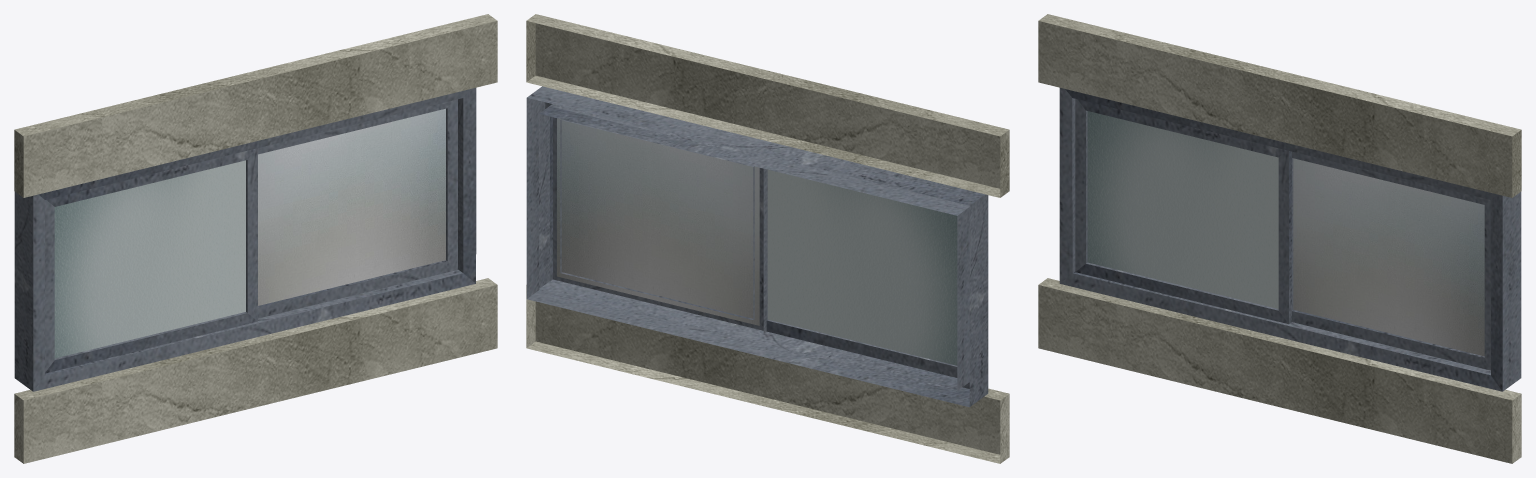
The model's file is Window_0.5m_001.fbx.
3 views of the same model, side by side, from view 1: azimuth 30°, elevation 25°; view 2: azimuth 150°, elevation 25°; view 3: azimuth 330°, elevation 25° (orthographic).
Parts seen in each view (by area): view 1: Window_0.5m_001; view 2: Window_0.5m_001; view 3: Window_0.5m_001.
Boxes of the visible parts, box(x1,y1,x2,y2) form: Window_0.5m_001: box(14, 14, 497, 463); Window_0.5m_001: box(526, 14, 1009, 463); Window_0.5m_001: box(1038, 14, 1521, 463).
Bounding box in the file's own units: 75.73 × 50 × 6.82.
1 material, 1 textured.
